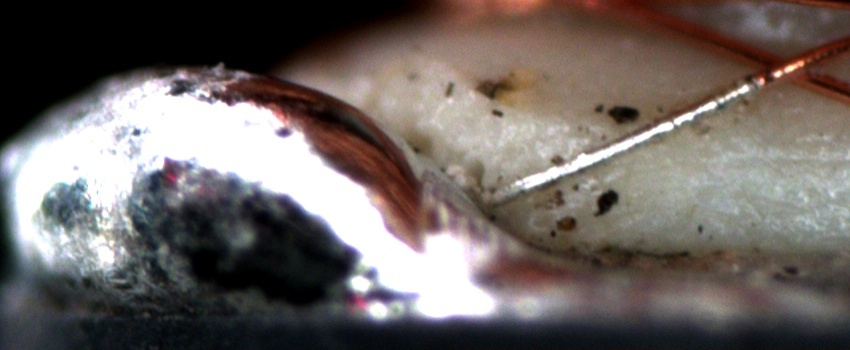CL: (743, 39, 836, 90)
DL: (701, 126, 850, 185)
TS: (484, 79, 760, 209)
